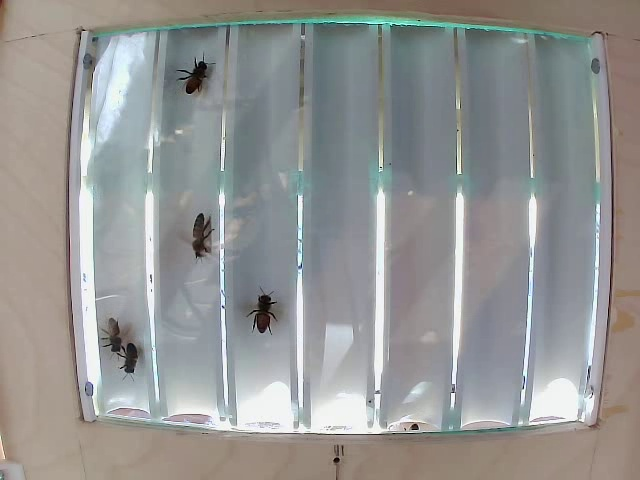bee: (240, 279, 290, 333), (183, 219, 223, 260), (183, 56, 213, 96), (117, 341, 148, 374), (91, 319, 126, 344)
